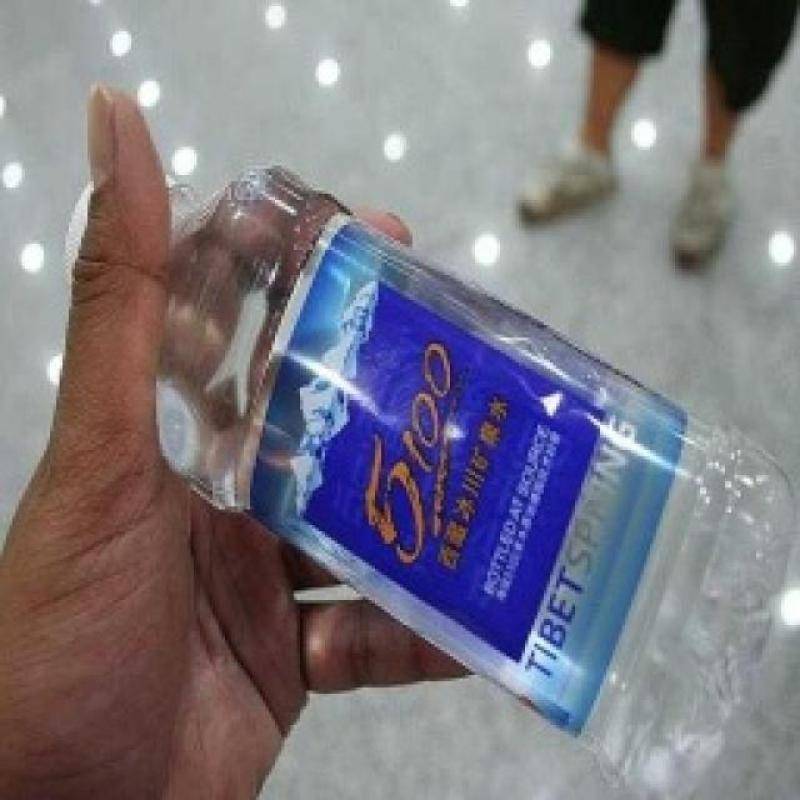botella: (84, 159, 796, 800)
